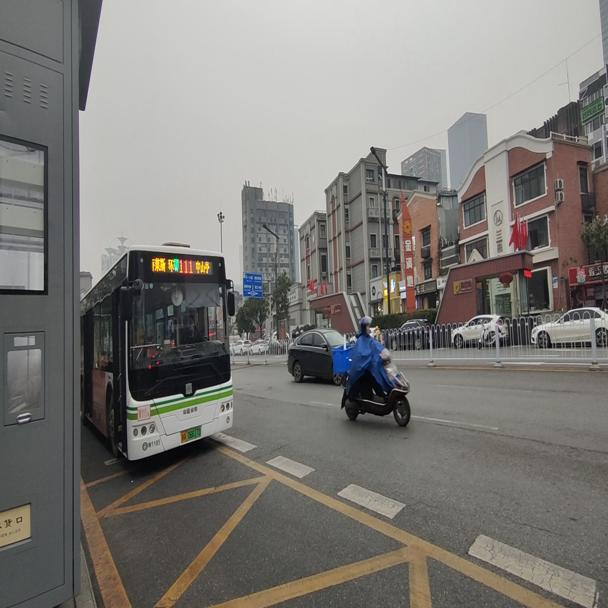bus: (78, 238, 241, 459)
screen: (180, 254, 192, 275)
